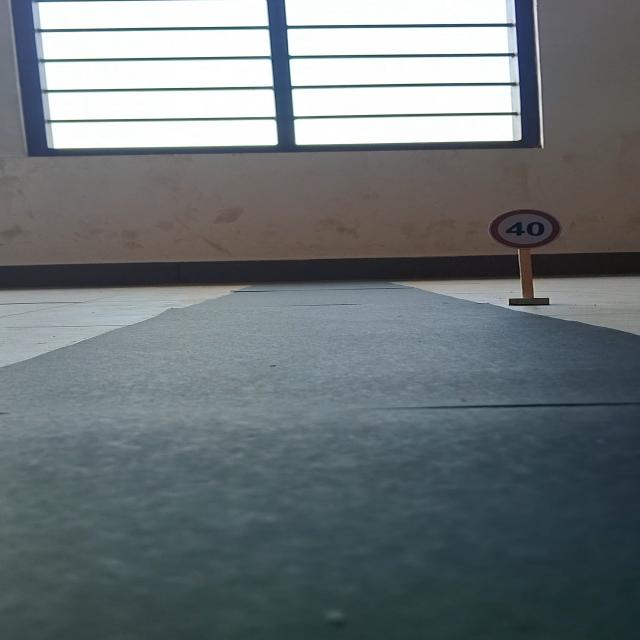Speed40: (484, 205, 566, 249)
